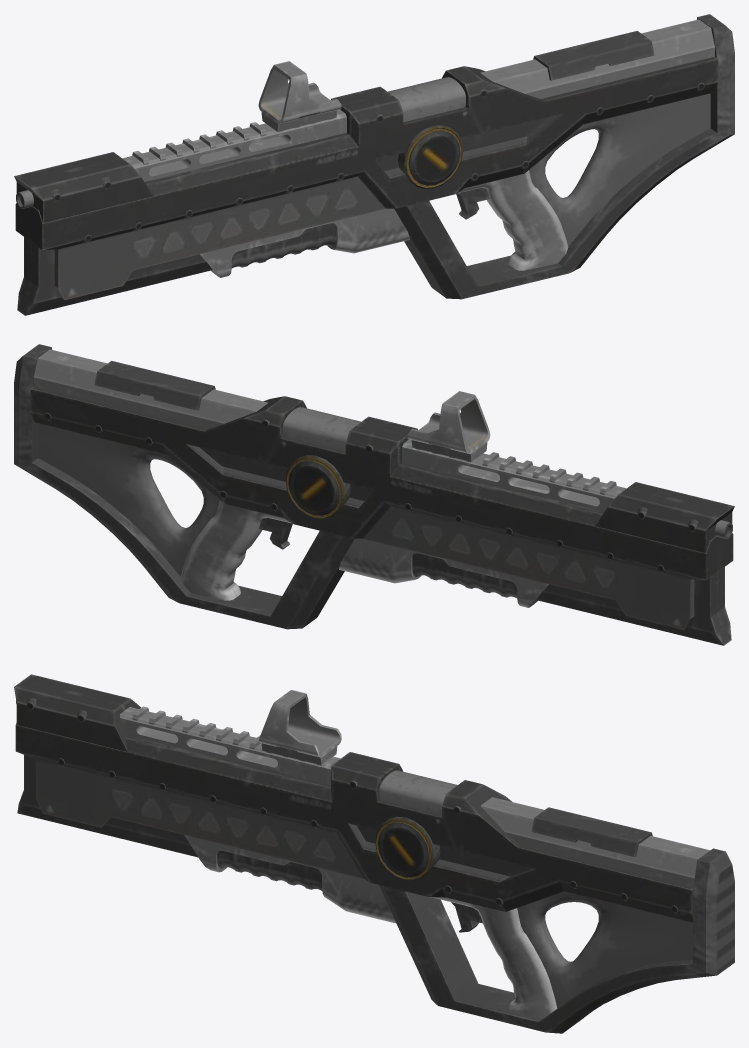
Rendered from Rifle.glb.
The picture shows the model from 3 angles, top to bottom: view 1: azimuth 30°, elevation 25°; view 2: azimuth 150°, elevation 25°; view 3: azimuth 330°, elevation 25°; orthographic projection.
Visible parts, largest first — view 1: Gun_Rifle; view 2: Gun_Rifle; view 3: Gun_Rifle.
Part boxes in pixels (box(x1,y1,x2,y2)): Gun_Rifle: box(14, 14, 734, 315); Gun_Rifle: box(14, 344, 734, 645); Gun_Rifle: box(14, 674, 734, 1033).
Bounding box in the file's own units: 1.06 × 0.3739 × 0.087.
Materials: 1 (1 with a texture image).
